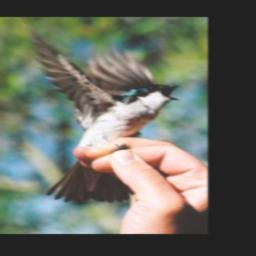Swallow: (18, 19, 183, 203)
